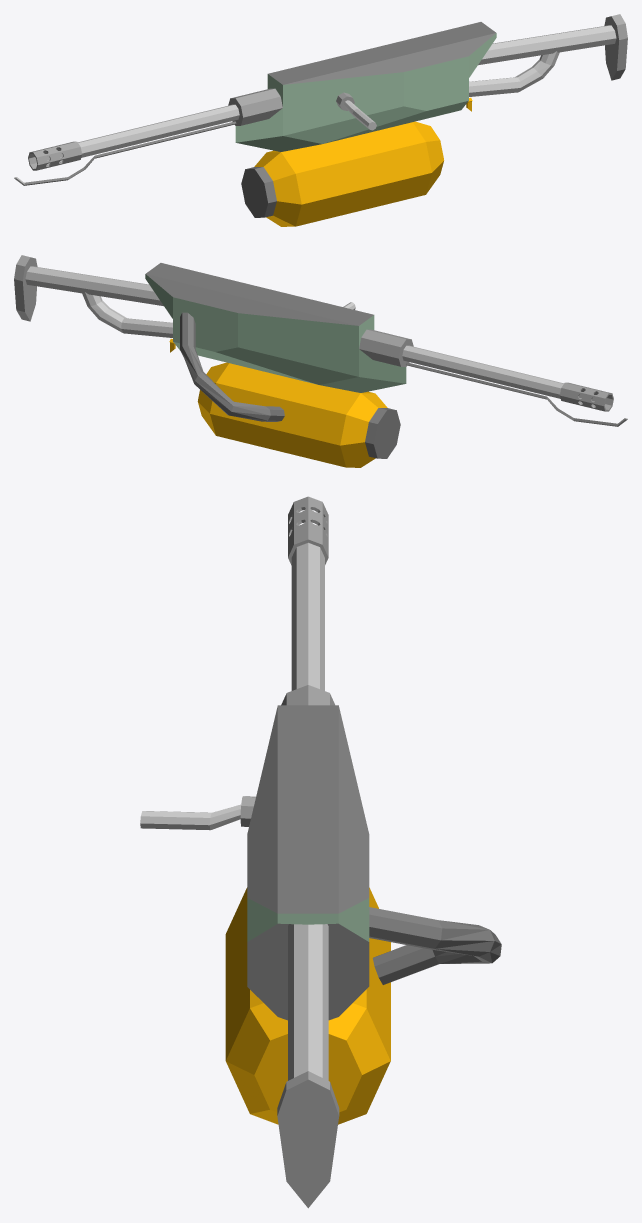
Rendered from FlameThrower.fbx.
3 renders of one model, top to bottom at view 1: azimuth 30°, elevation 25°; view 2: azimuth 150°, elevation 25°; view 3: azimuth 270°, elevation 25°, orthographic. The views are drawn at different scales.
Visible parts, largest first — view 1: FlameThrower; view 2: FlameThrower; view 3: FlameThrower.
Boxes of the visible parts, x1,y1,x2,y2 form: FlameThrower: [14, 14, 627, 226]; FlameThrower: [14, 255, 627, 467]; FlameThrower: [140, 496, 501, 1208].
Bounding box in the file's own units: 0.6888 × 0.1617 × 0.1779.
